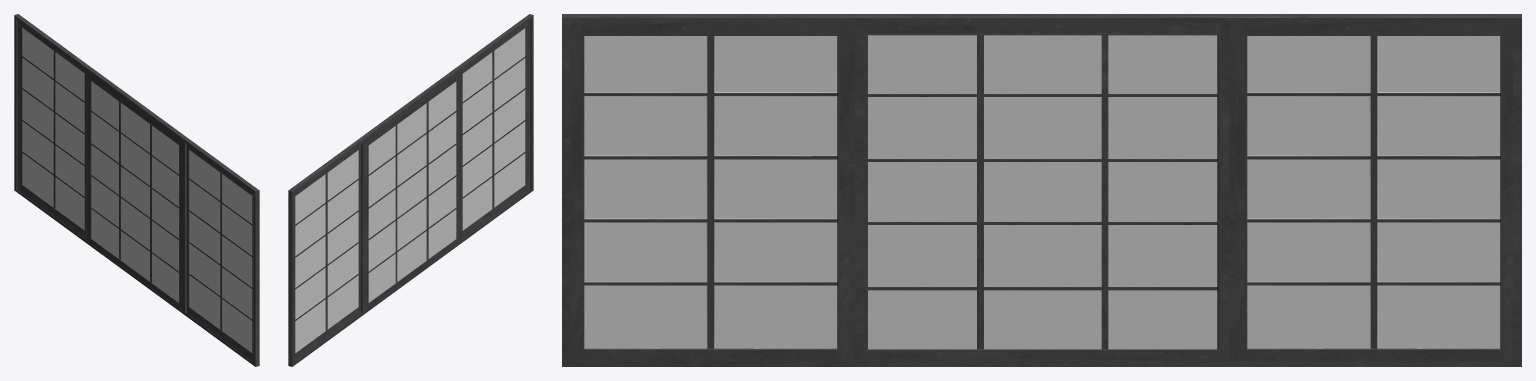
The model's file is window.fbx.
3 renders of one model, left to right at view 1: azimuth 30°, elevation 25°; view 2: azimuth 150°, elevation 25°; view 3: azimuth 270°, elevation 25°, orthographic. The views are drawn at different scales.
Visible parts, largest first — view 1: Window; view 2: Window; view 3: Window.
Boxes of the visible parts, x1,y1,x2,y2 form: Window: (14, 14, 259, 366); Window: (288, 14, 533, 366); Window: (562, 14, 1521, 366).
Bounding box in the file's own units: 0.1142 × 4.48 × 11.18.
